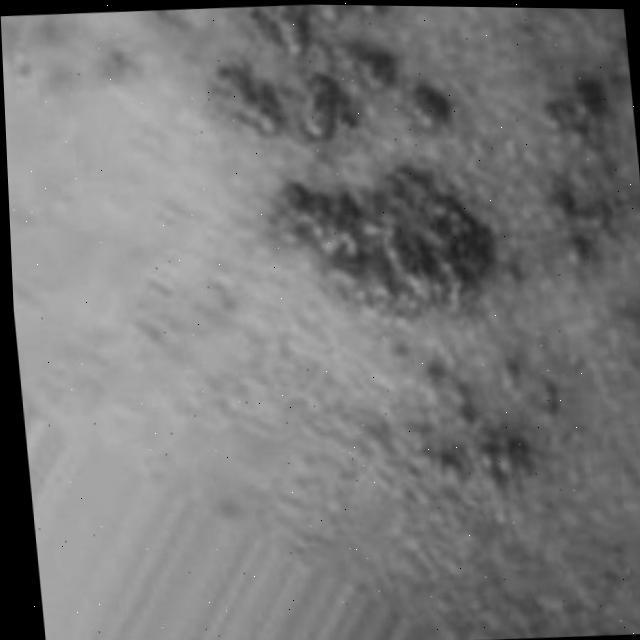Shingles: (0, 0, 640, 514)
